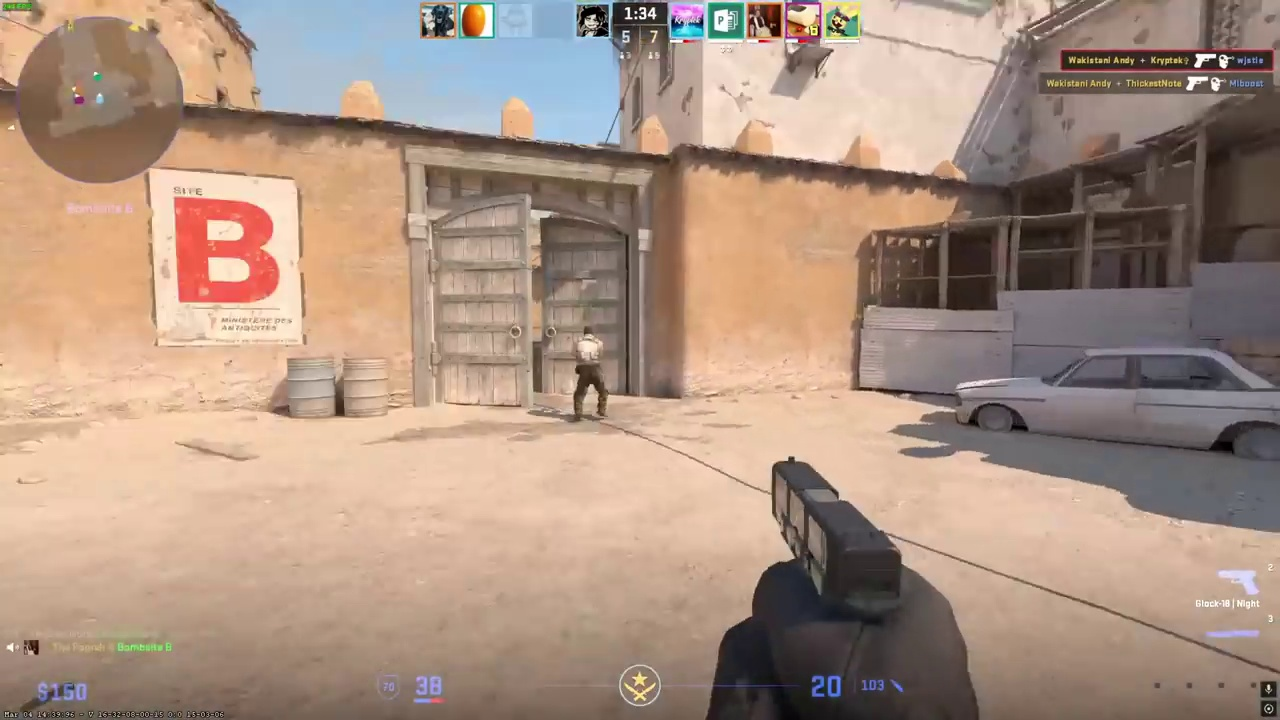Terrorist: (573, 326, 609, 422)
